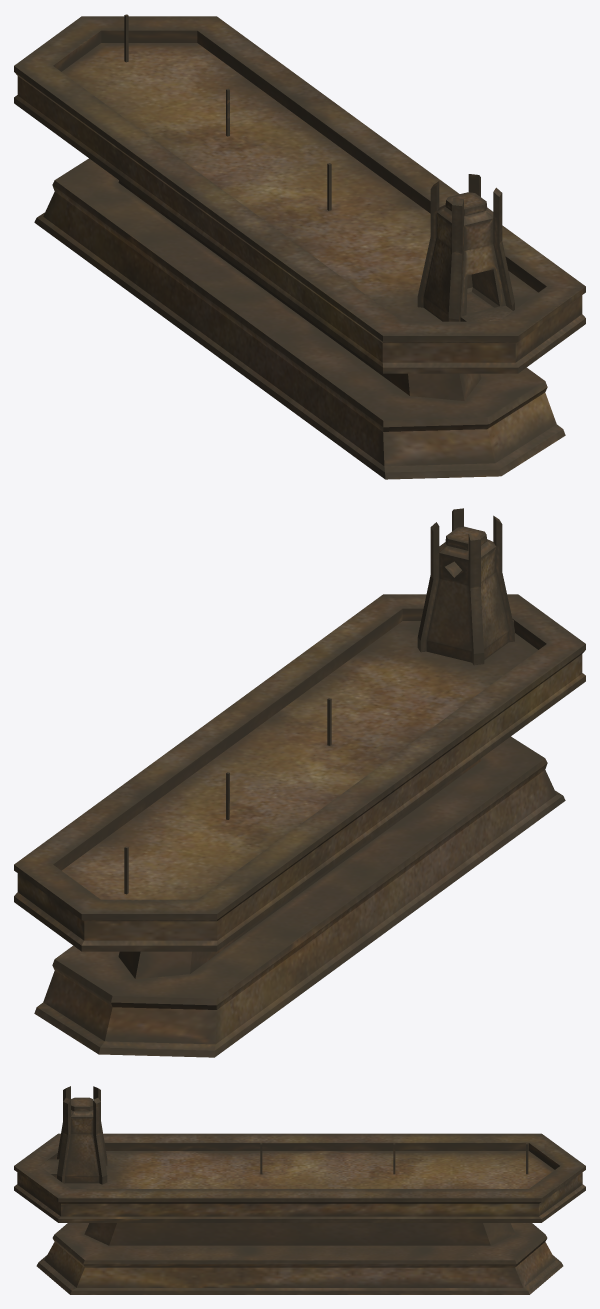
The model's file is Shadow puzzle base.fbx.
3 renders of one model, top to bottom at view 1: azimuth 30°, elevation 25°; view 2: azimuth 150°, elevation 25°; view 3: azimuth 270°, elevation 25°, orthographic. The views are drawn at different scales.
Visible parts, largest first — view 1: Cube.001; view 2: Cube.001; view 3: Cube.001.
Part boxes in pixels (x1,y1,x2,y2): Cube.001: [14, 14, 585, 479]; Cube.001: [14, 508, 585, 1057]; Cube.001: [14, 1086, 585, 1294].
Size of the model in its own units: 173 by 216 by 646.
1 material, 1 textured.
